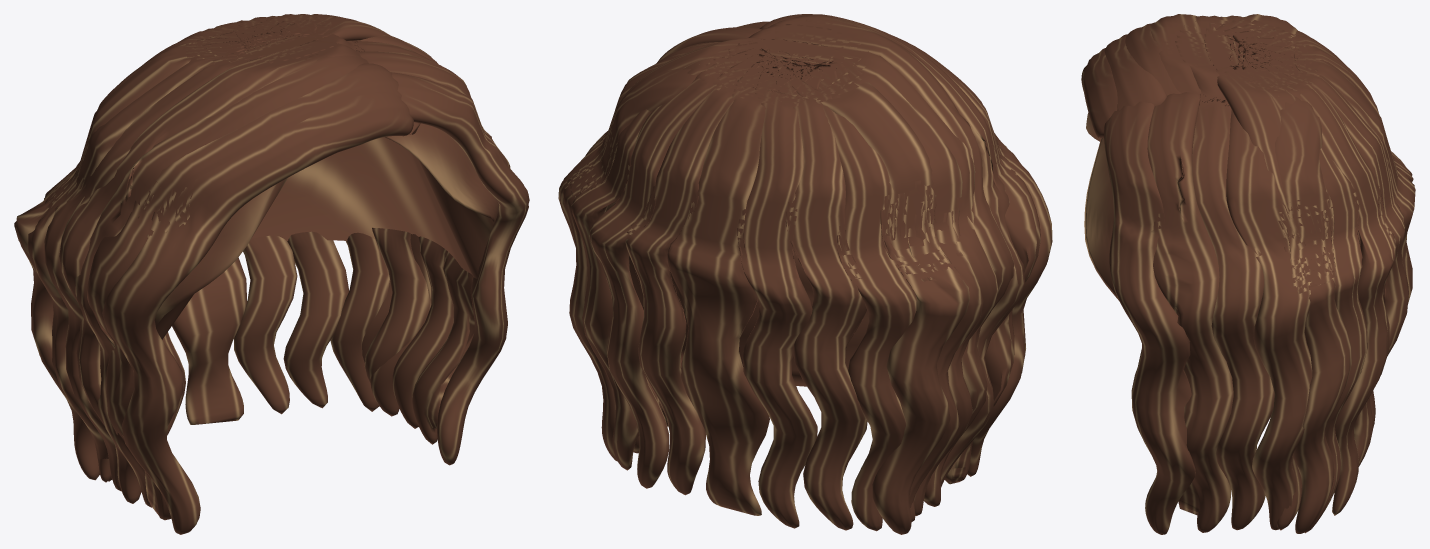
File: Highlights-ac8048e2a6a2252-hair.glb
3 renders of one model, left to right at view 1: azimuth 30°, elevation 25°; view 2: azimuth 150°, elevation 25°; view 3: azimuth 270°, elevation 25°, orthographic. The views are drawn at different scales.
Visible parts, largest first — view 1: 226 hair / Hair / sculpted 0.004, 226 hair / Hair / sculpted 1.008, 226 hair / Hair / sculpted 2.004, 226 hair / Hair / sculpted 1.007; view 2: 226 hair / Hair / sculpted 2.004, 226 hair / Hair / sculpted 0.004, 226 hair / Hair / sculpted 1.008, 226 hair / Hair / sculpted 1.007; view 3: 226 hair / Hair / sculpted 1.008, 226 hair / Hair / sculpted 2.004, 226 hair / Hair / sculpted 0.004, 226 hair / Hair / sculpted 1.007.
Part boxes in pixels (x1,y1,x2,y2): 226 hair / Hair / sculpted 0.004: [14, 14, 453, 534]; 226 hair / Hair / sculpted 1.008: [44, 16, 529, 520]; 226 hair / Hair / sculpted 2.004: [27, 14, 510, 507]; 226 hair / Hair / sculpted 1.007: [154, 123, 499, 339]; 226 hair / Hair / sculpted 2.004: [562, 14, 1025, 531]; 226 hair / Hair / sculpted 0.004: [585, 15, 1052, 534]; 226 hair / Hair / sculpted 1.008: [558, 14, 1040, 530]; 226 hair / Hair / sculpted 1.007: [606, 201, 869, 386]; 226 hair / Hair / sculpted 1.008: [1104, 15, 1408, 534]; 226 hair / Hair / sculpted 2.004: [1125, 15, 1415, 533]; 226 hair / Hair / sculpted 0.004: [1081, 14, 1413, 530]; 226 hair / Hair / sculpted 1.007: [1084, 113, 1385, 300].
Bounding box in the file's own units: 1.13 × 1.1 × 0.7813.
4 materials, 4 textured.
